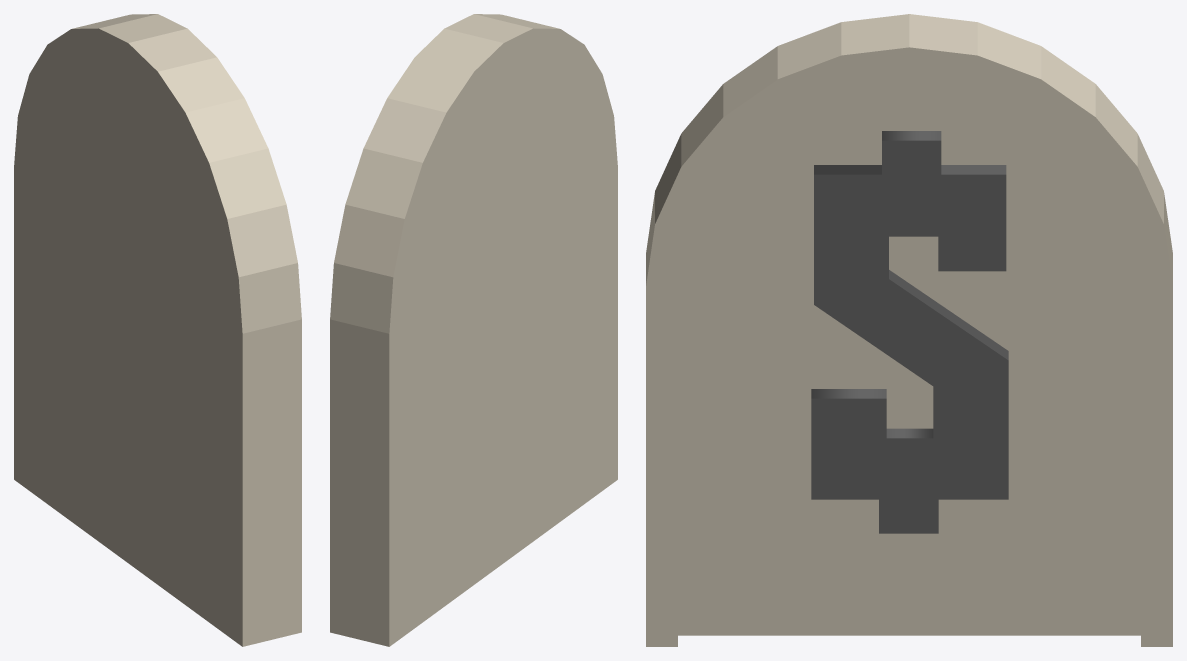
Rendered from grave1.fbx.
3 views of the same model, side by side, from view 1: azimuth 30°, elevation 25°; view 2: azimuth 150°, elevation 25°; view 3: azimuth 270°, elevation 25° (orthographic). The views are drawn at different scales.
Visible parts, largest first — view 1: Cylinder.001; view 2: Cylinder.001; view 3: Cylinder.001, Text.
Boxes of the visible parts, x1,y1,x2,y2 form: Cylinder.001: (14,14,301,646); Cylinder.001: (330,14,617,646); Cylinder.001: (646,14,1172,646); Text: (811,131,1008,533).
Size of the model in its own units: 34.14 by 286 by 228.
